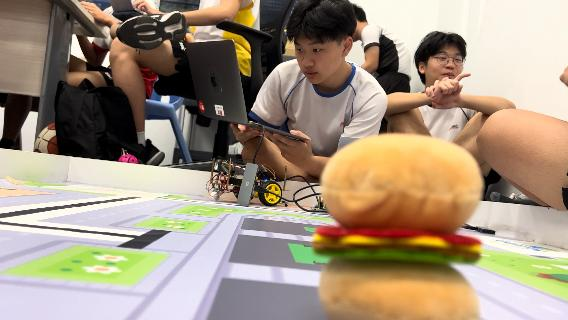burger: (311, 131, 487, 317)
